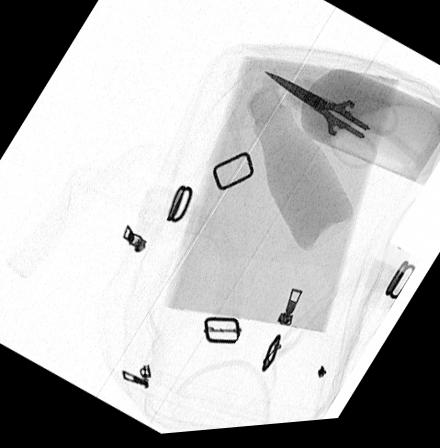Scissors: (262, 75, 398, 176)
